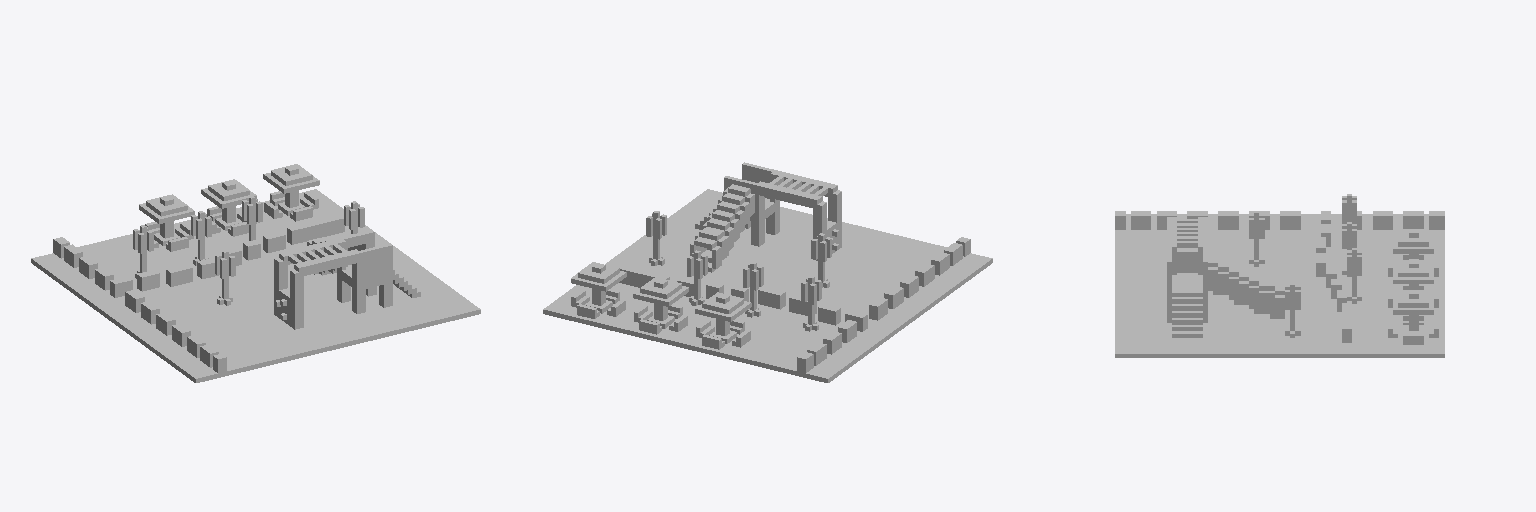
Rendered from park.obj.
3 views of the same model, side by side, from view 1: azimuth 30°, elevation 25°; view 2: azimuth 150°, elevation 25°; view 3: azimuth 270°, elevation 25° (orthographic).
Visible parts, largest first — view 1: object 1; view 2: object 1; view 3: object 1.
Boxes of the visible parts, <box> form: object 1: <box>31,164,480,382</box>; object 1: <box>543,162,992,382</box>; object 1: <box>1115,194,1444,357</box>.
Bounding box in the file's own units: 6.4 × 1.4 × 6.4.